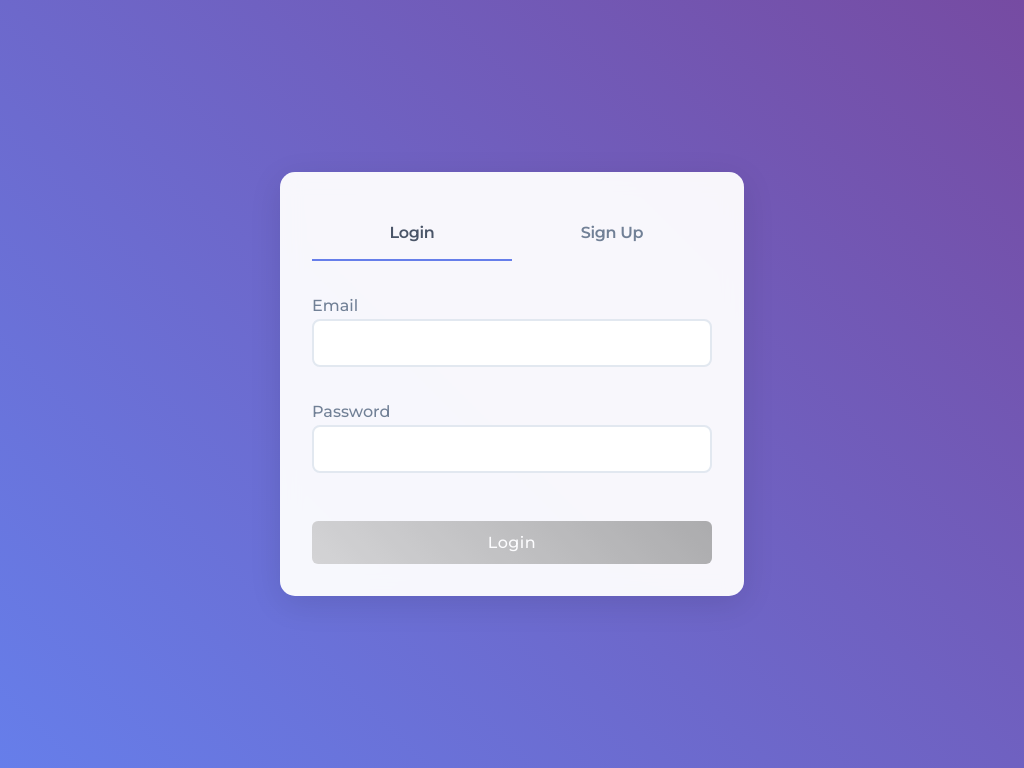
it: Authentication Page › shows an error if email is not a UF email on login
Type "test@example.com" into the field labelled "Email" at (512, 344), box [312, 319, 712, 368]
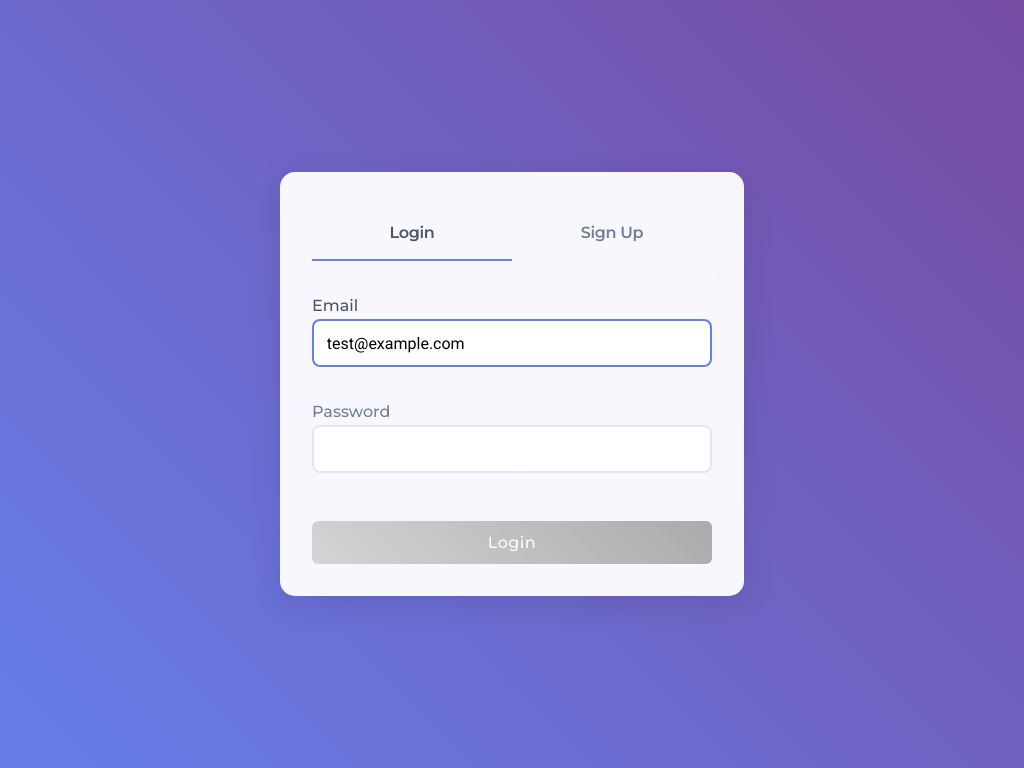
Type "dummyPassword" into the password field labelled "Password" at (512, 450), box [312, 425, 712, 474]
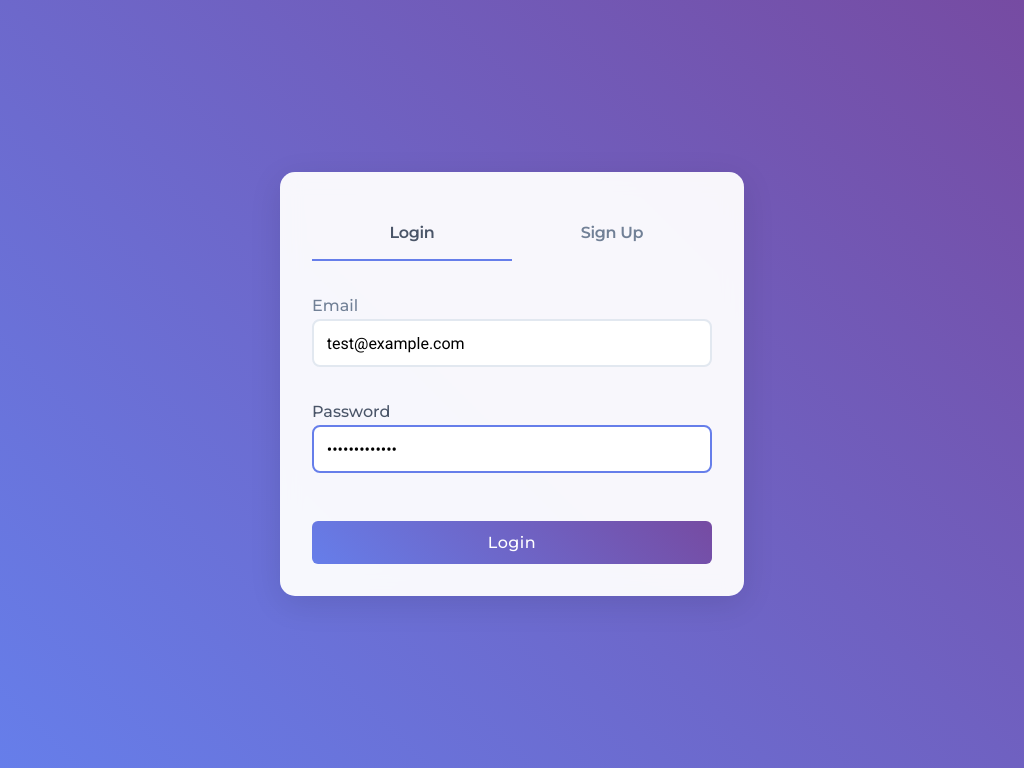
Click the button with class "submit-btn" at (512, 544), box [312, 522, 712, 565]
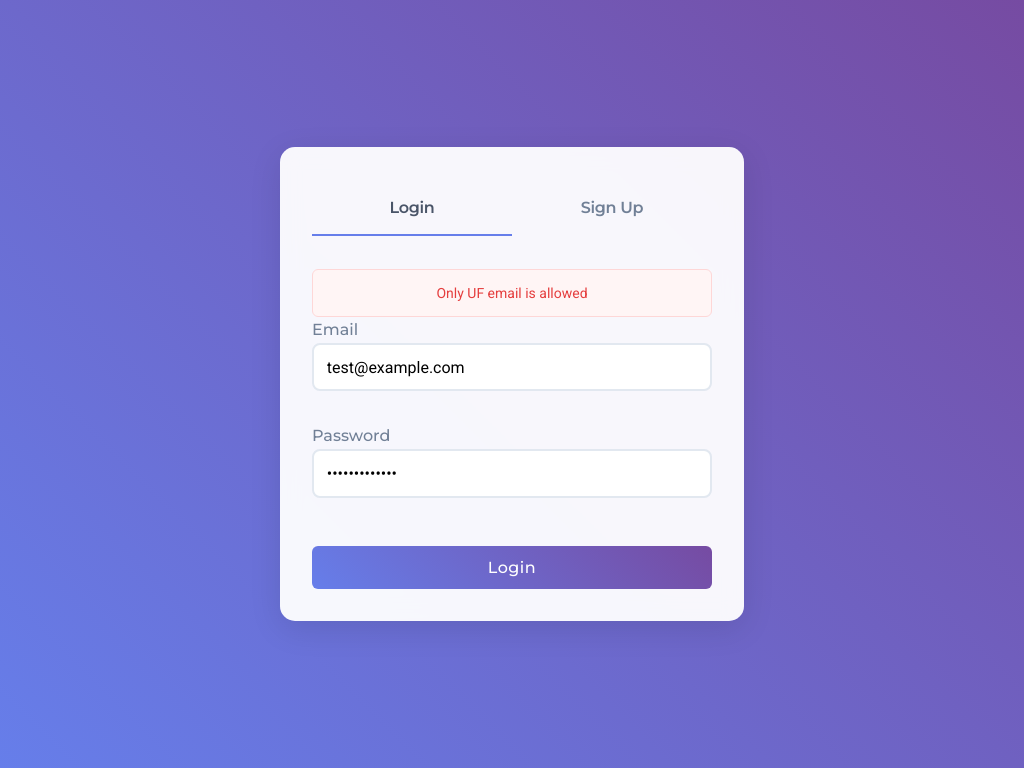
Expected: the text with class "error-message" reads "Only UF email is allowed", [436, 285, 587, 301]
